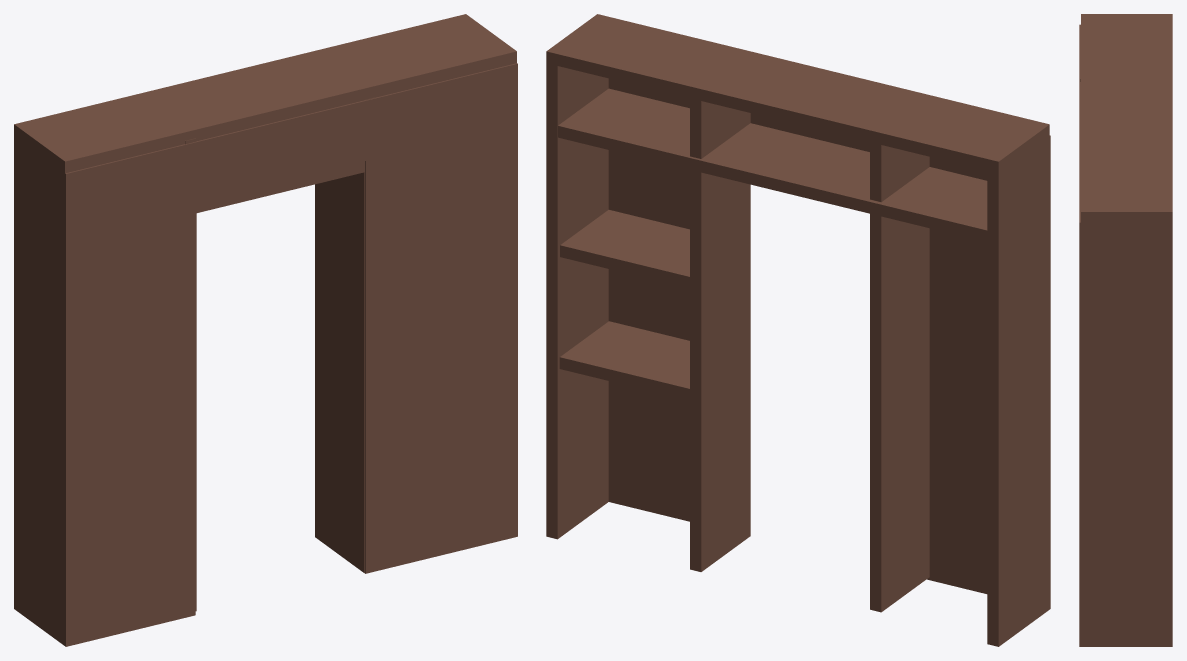
File: Cabinet.glb
3 renders of one model, left to right at view 1: azimuth 30°, elevation 25°; view 2: azimuth 150°, elevation 25°; view 3: azimuth 270°, elevation 25°, orthographic. The views are drawn at different scales.
Visible parts, largest first — view 1: group1134304036, group630084855, group1425940537, group528000529, group1516016514, group1575397239; view 2: group1134304036, group630084855, group1425940537, group528000529, group1575397239, group1516016514, group1478564517, group2060297481; view 3: group630084855, group1425940537, group1134304036.
Boxes of the visible parts, x1,y1,x2,y2 form: group1134304036: (14,100,366,646); group630084855: (365,63,517,573); group1425940537: (14,14,516,173); group528000529: (315,97,375,573); group1516016514: (14,161,364,244); group1575397239: (185,138,196,611); group1134304036: (750,113,1050,646); group630084855: (546,63,689,539); group1425940537: (546,14,1049,173); group528000529: (690,98,750,571); group1575397239: (870,142,929,612); group1516016514: (558,88,1049,244); group1478564517: (559,321,689,400); group2060297481: (560,210,689,288); group630084855: (1079,155,1172,646); group1425940537: (1081,14,1172,222); group1134304036: (1079,24,1080,155).
Bounding box in the file's own units: 3.2 × 3.28 × 0.6371.
